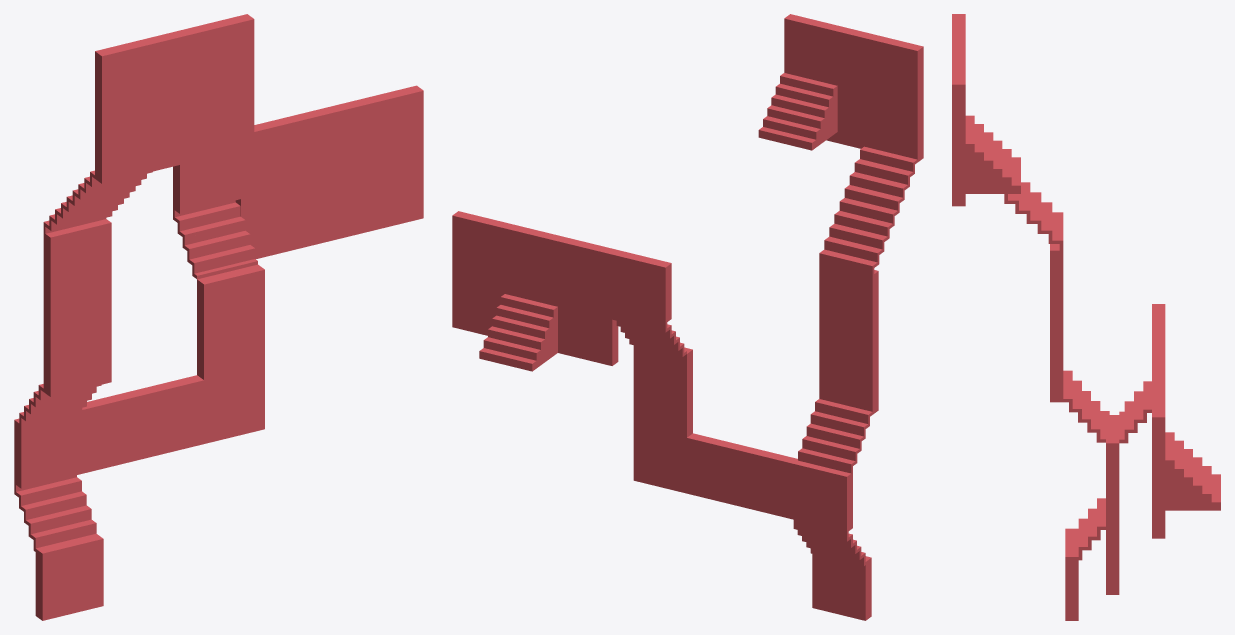
The model's file is stage1-2.fbx.
3 views of the same model, side by side, from view 1: azimuth 30°, elevation 25°; view 2: azimuth 150°, elevation 25°; view 3: azimuth 270°, elevation 25° (orthographic). The views are drawn at different scales.
Visible parts, largest first — view 1: Wall&Stair.1; view 2: Wall&Stair.1; view 3: Wall&Stair.1.
Boxes of the visible parts, x1,y1,x2,y2 form: Wall&Stair.1: [14, 14, 423, 620]; Wall&Stair.1: [452, 14, 923, 620]; Wall&Stair.1: [952, 14, 1220, 620].
Bounding box in the file's own units: 25.39 × 34.57 × 14.55.
